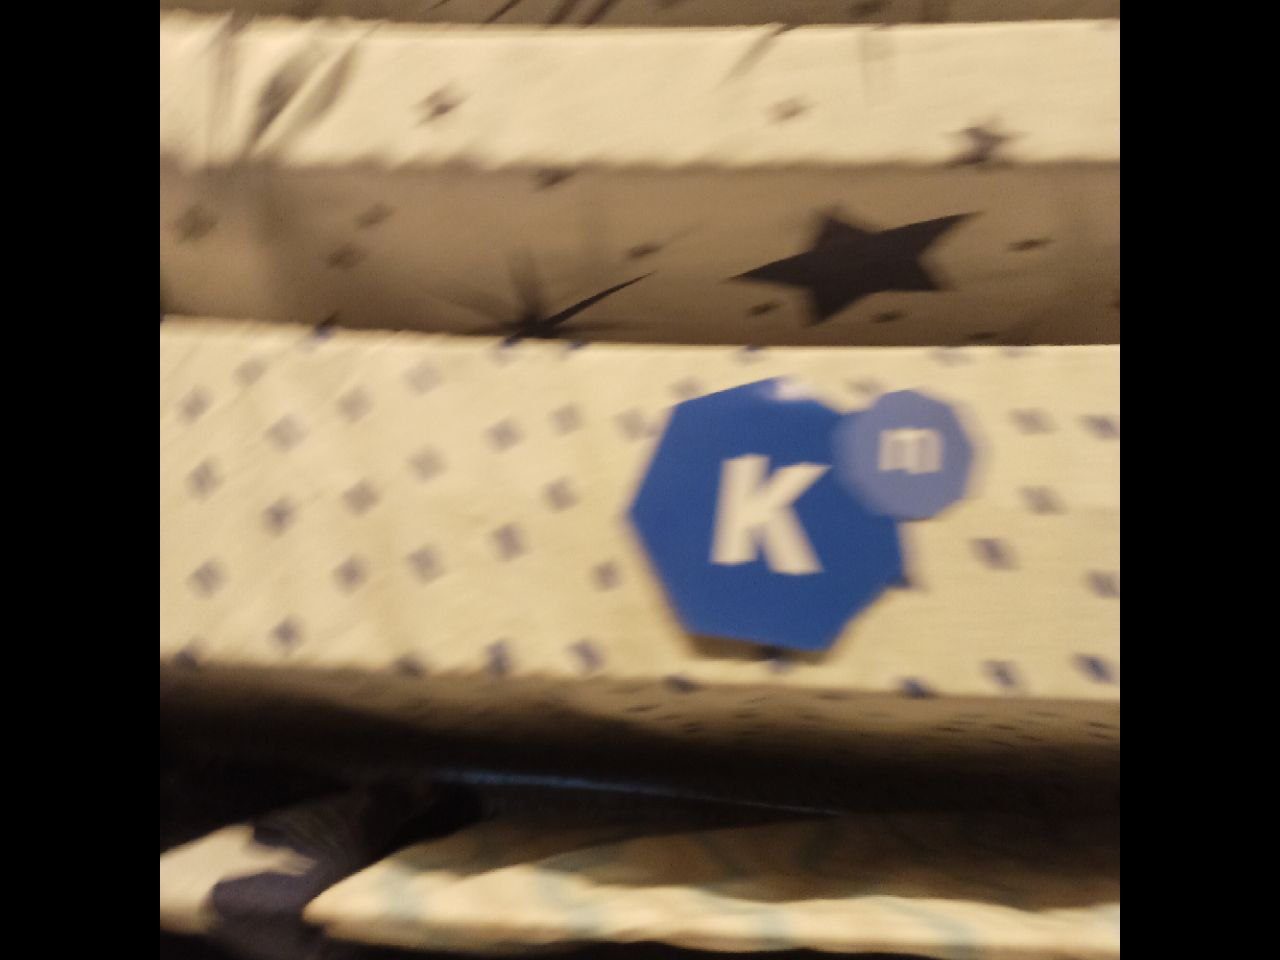knative: (626, 371, 975, 659)
